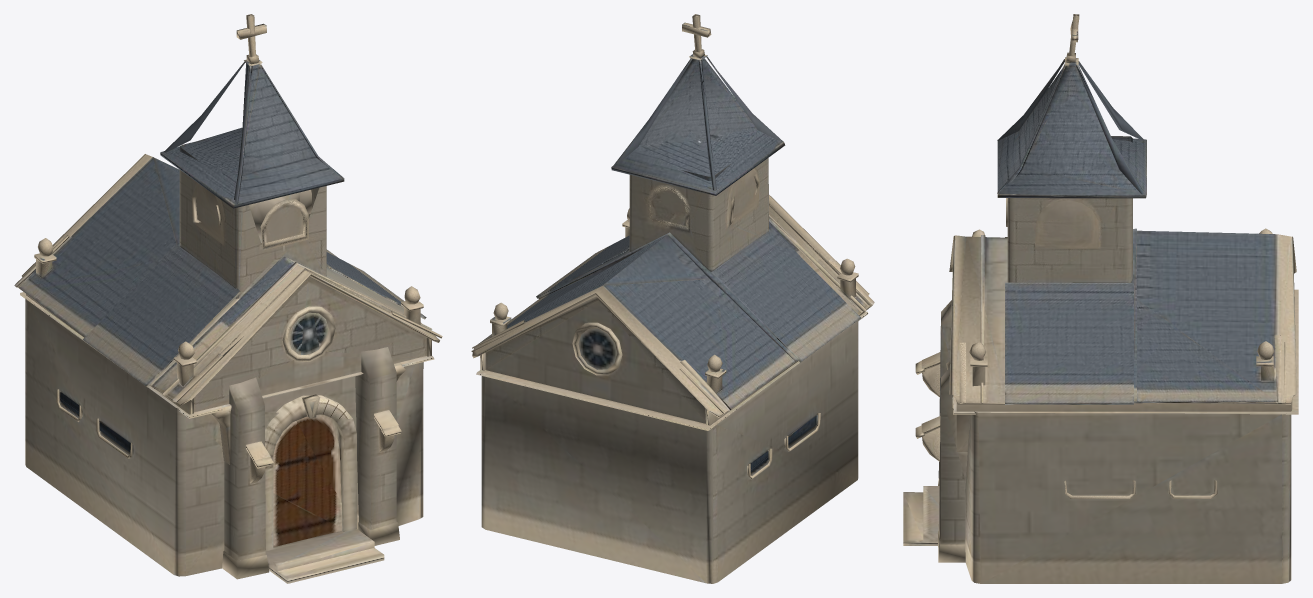
Rendered from building-temple.glb.
3 renders of one model, left to right at view 1: azimuth 30°, elevation 25°; view 2: azimuth 150°, elevation 25°; view 3: azimuth 270°, elevation 25°, orthographic. The views are drawn at different scales.
Size of the model in its own units: 0.5649 by 0.9517 by 0.6738.
1 material, 1 textured.
